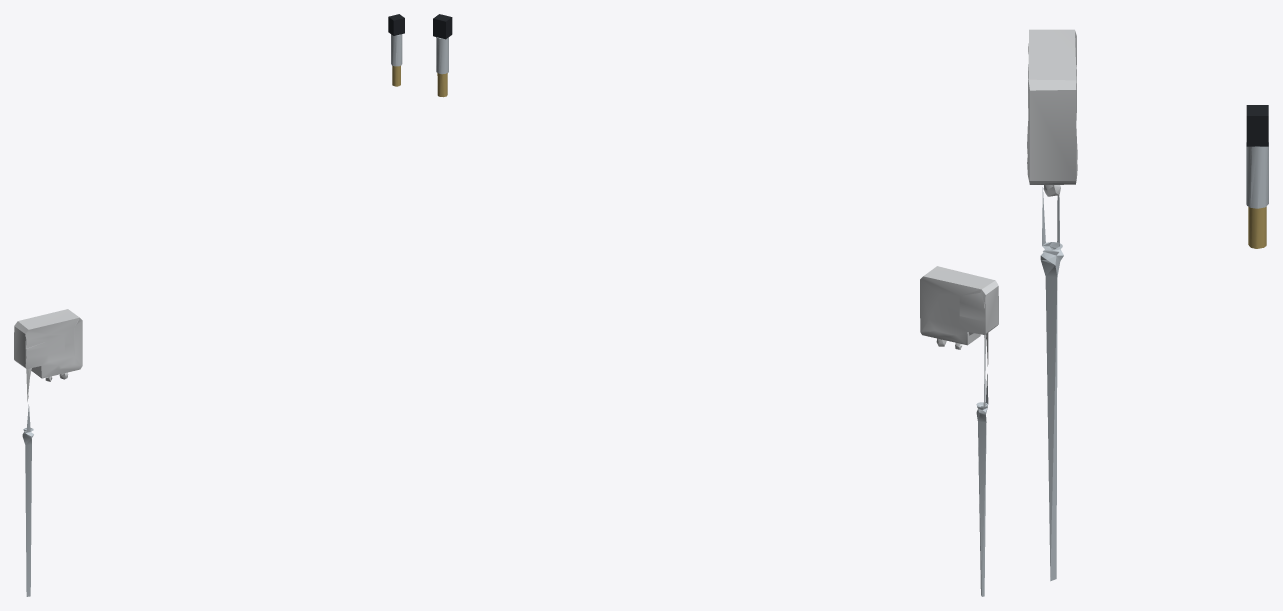
The model's file is trim-comfort.glb.
3 views of the same model, side by side, from view 1: azimuth 30°, elevation 25°; view 2: azimuth 150°, elevation 25°; view 3: azimuth 270°, elevation 25° (orthographic). The views are drawn at different scales.
Parts seen in each view (by area): view 1: lcs600, pressure_transmitter; view 2: lcs600, pressure_transmitter; view 3: lcs600, pressure_transmitter.
Part boxes in pixels (x1,y1,x2,y2): lcs600: (14,309,82,596); pressure_transmitter: (388,14,404,86); lcs600: (920,266,998,596); pressure_transmitter: (433,14,452,97); lcs600: (1027,29,1077,581); pressure_transmitter: (1246,105,1268,248).
Size of the model in its own units: 1.32 by 1.28 by 0.3197.
